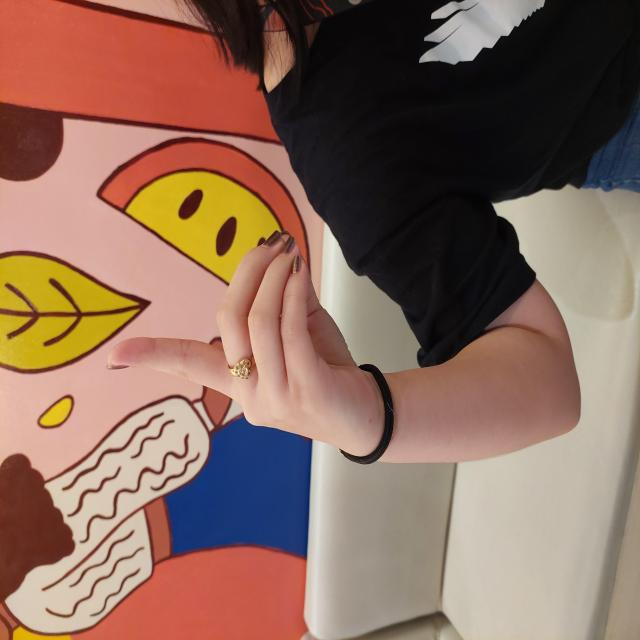D: (197, 106, 414, 370)
